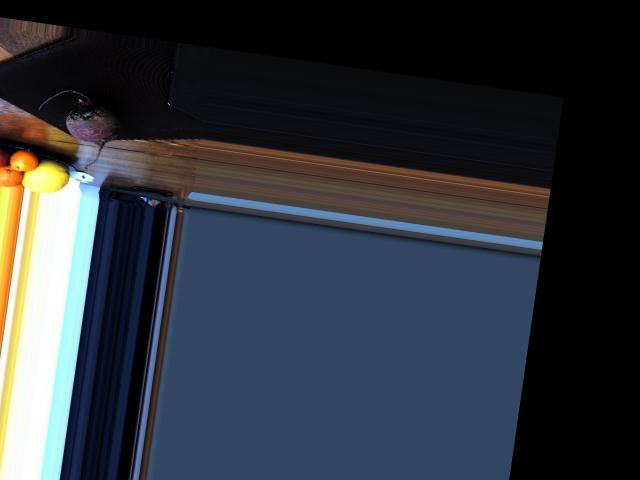beet: (31, 85, 125, 170)
